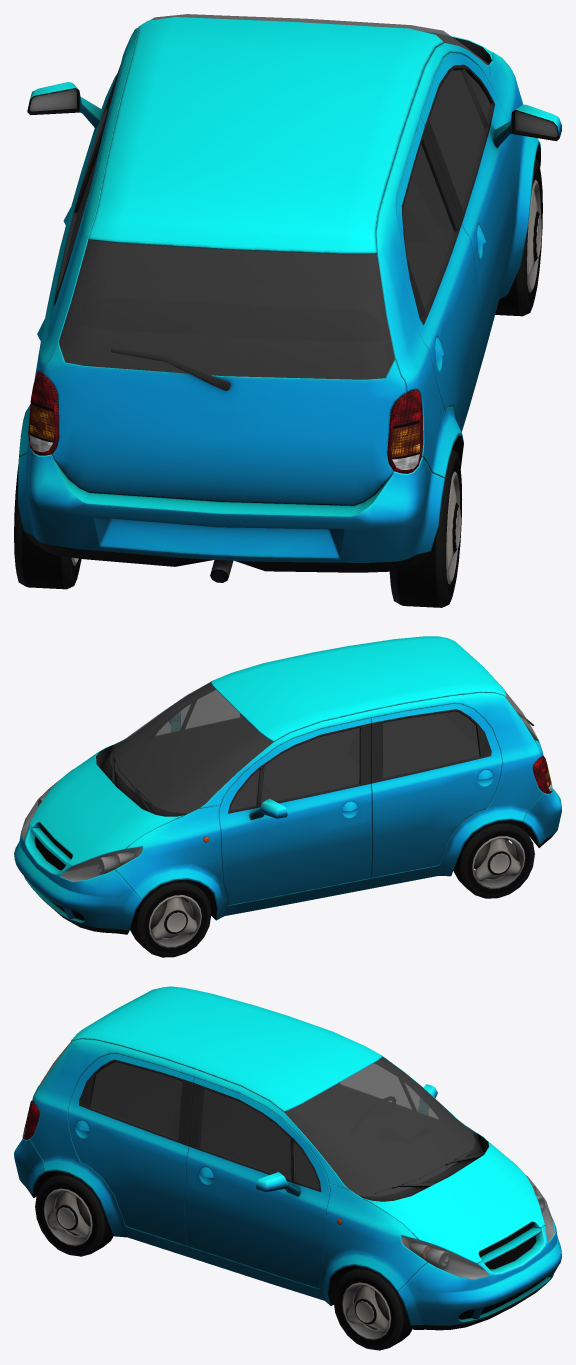
The model's file is auto 1.fbx.
3 renders of one model, top to bottom at view 1: azimuth 30°, elevation 25°; view 2: azimuth 150°, elevation 25°; view 3: azimuth 270°, elevation 25°, orthographic. The views are drawn at different scales.
Visible parts, largest first — view 1: Wheel_C003; view 2: Wheel_C003; view 3: Wheel_C003.
Boxes of the visible parts, bbox=[...] form: Wheel_C003: bbox=[14, 14, 561, 607]; Wheel_C003: bbox=[14, 636, 561, 957]; Wheel_C003: bbox=[14, 986, 561, 1350].
Size of the model in its own units: 299 by 148 by 345.
Materials: 4 (3 with a texture image).
